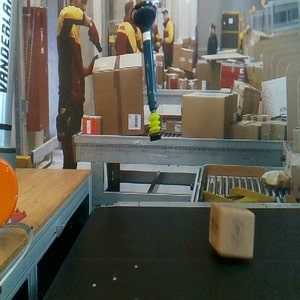box: (208, 202, 255, 260)
